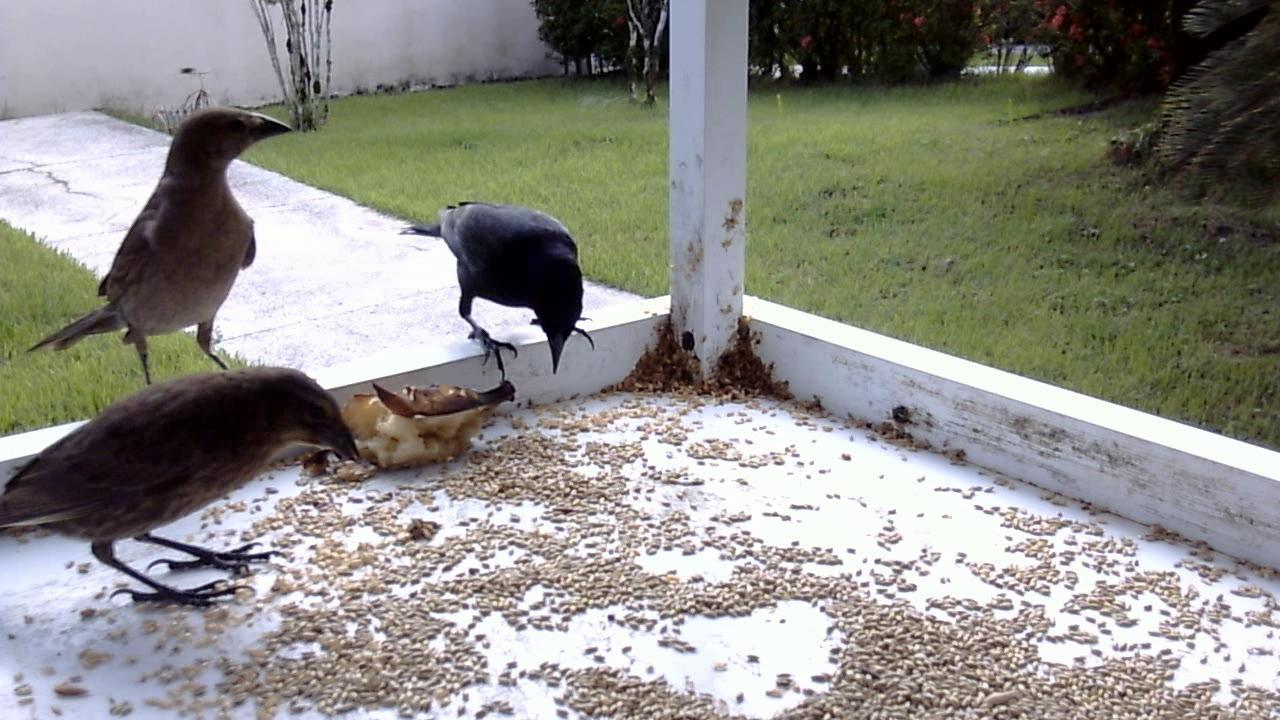chupim: (1, 352, 375, 627), (12, 94, 302, 403), (395, 187, 594, 392)
